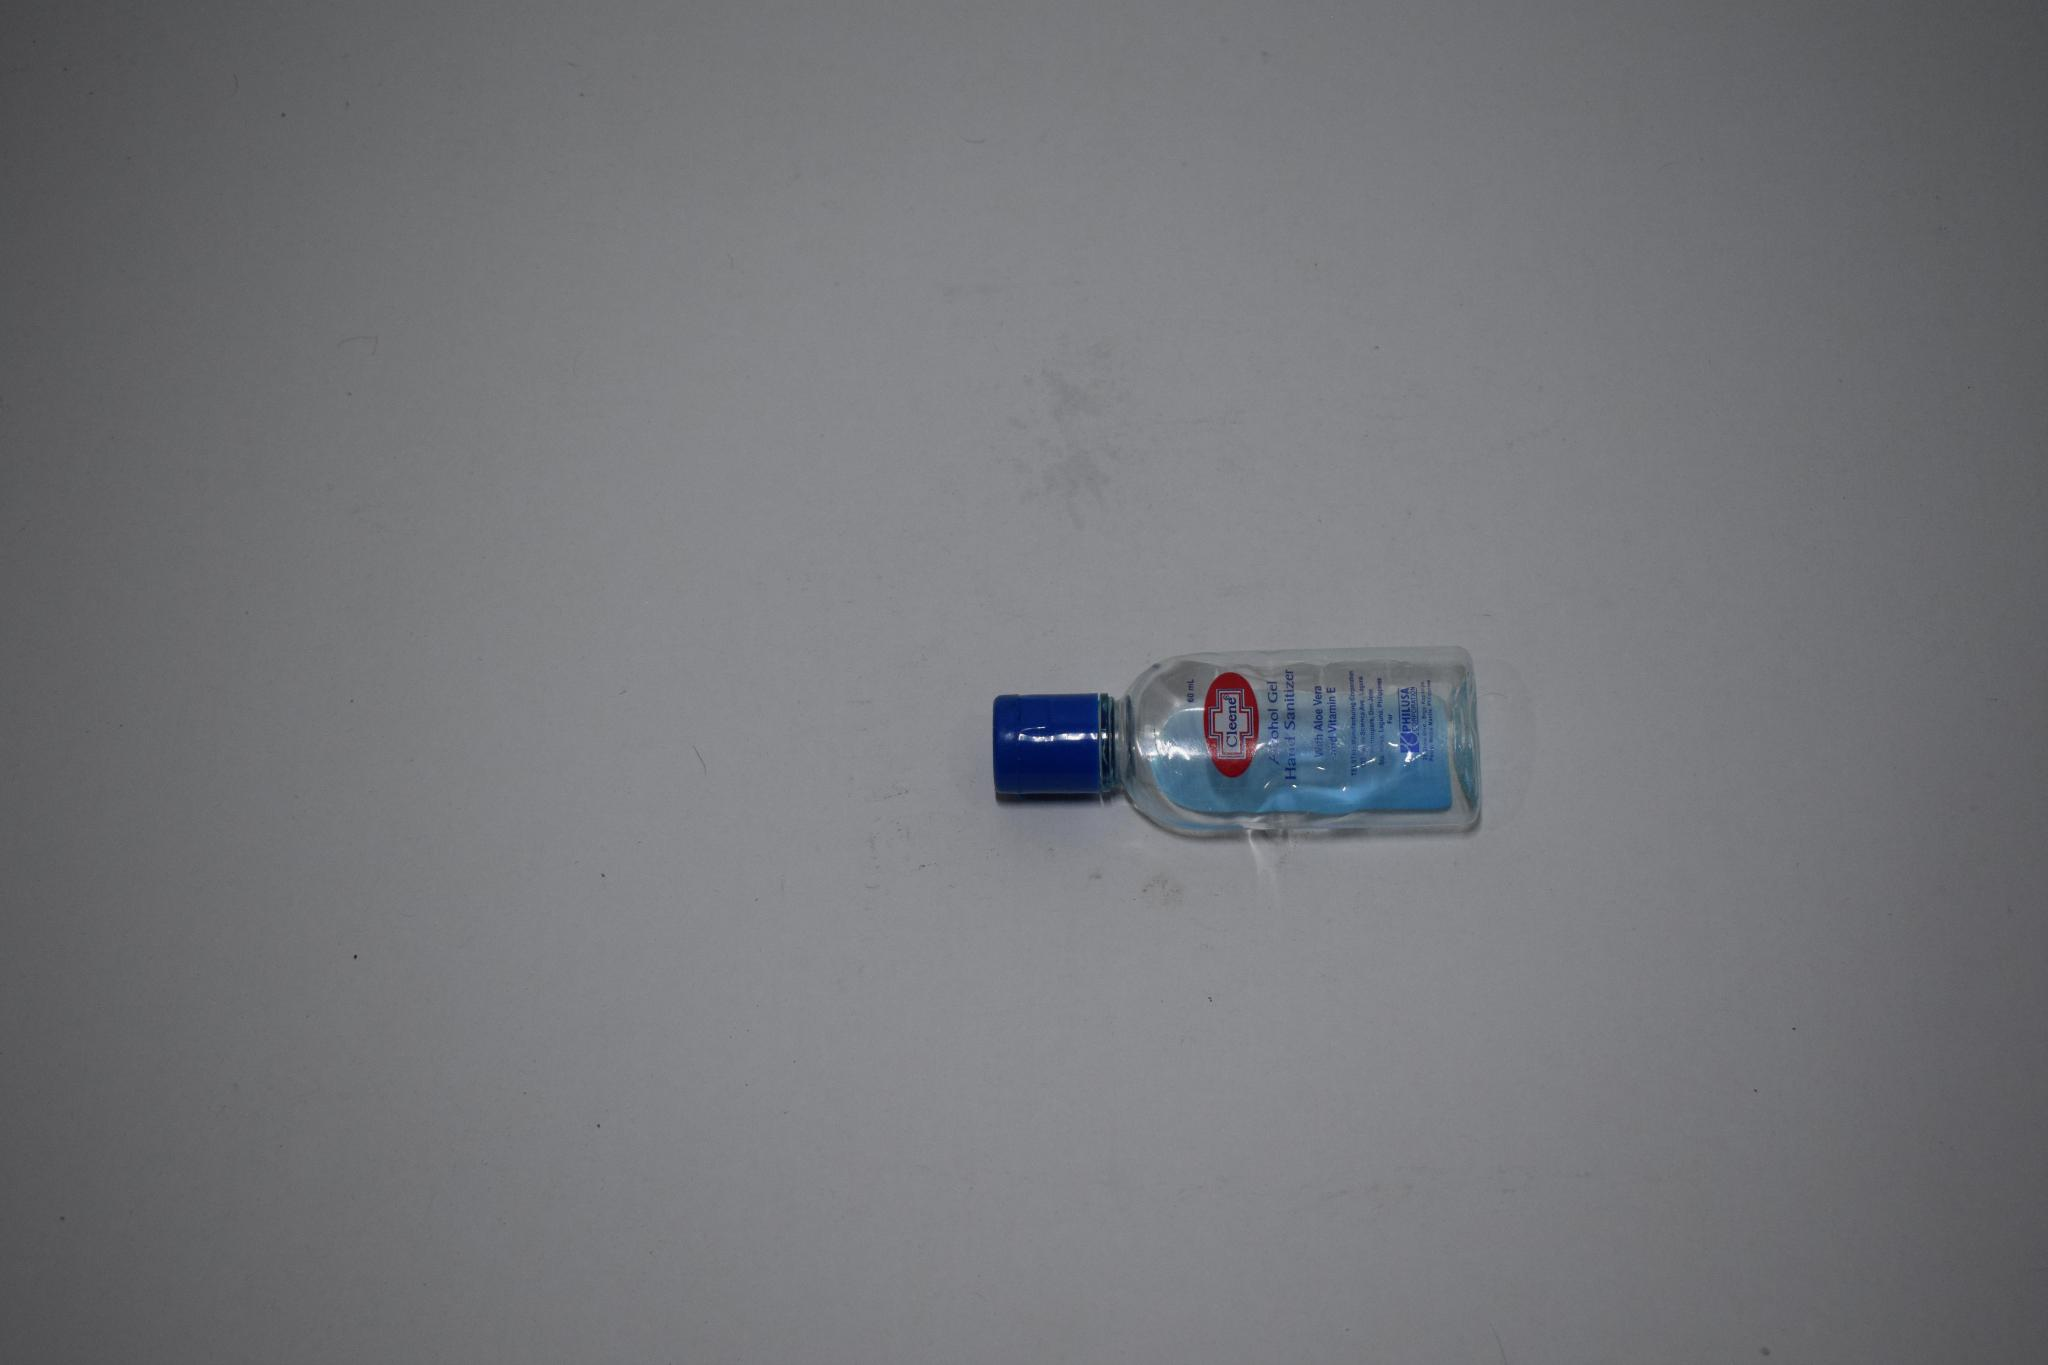bottle: (975, 623, 1512, 865)
